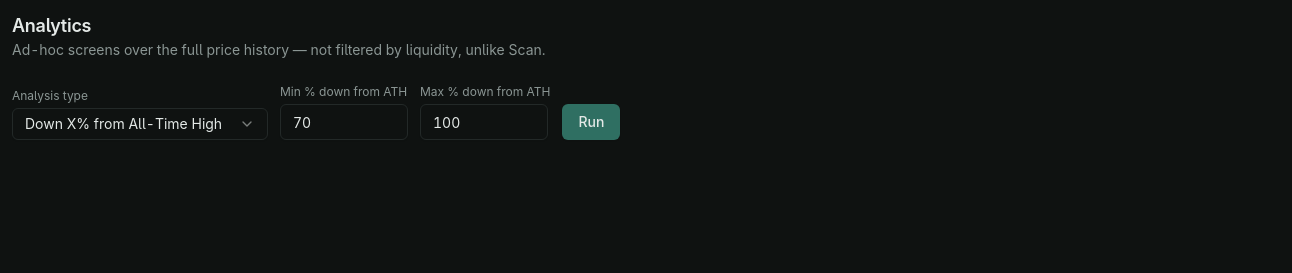
Test: Analytics screen › defaults min/max from config and runs the selected analysis as a range
Expected: the text "Down X% from All-Time High" is shown, x1=25 y1=114 x2=222 y2=134
Expected: the number field showing "70" below "Min" is shown, x1=280 y1=104 x2=408 y2=140
Click the button "Run".
click(591, 122)  # box x1=562 y1=104 x2=620 y2=140
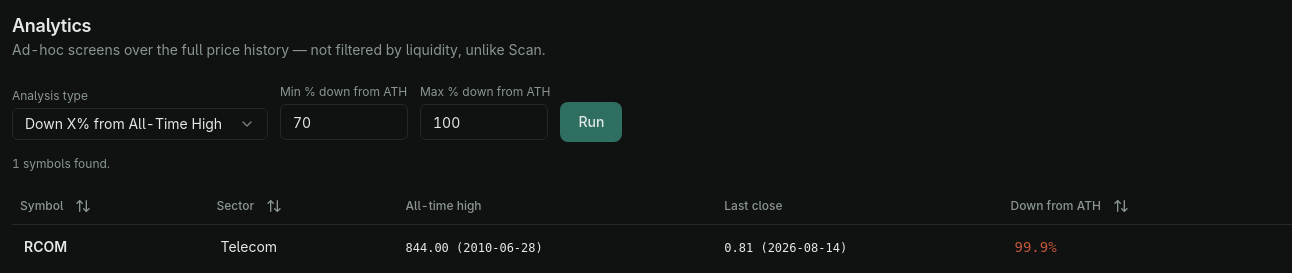
Result: the button "RCOM" is shown at x1=24 y1=236 x2=67 y2=256
Result: the text "99.9%" is shown at x1=1014 y1=238 x2=1057 y2=254
